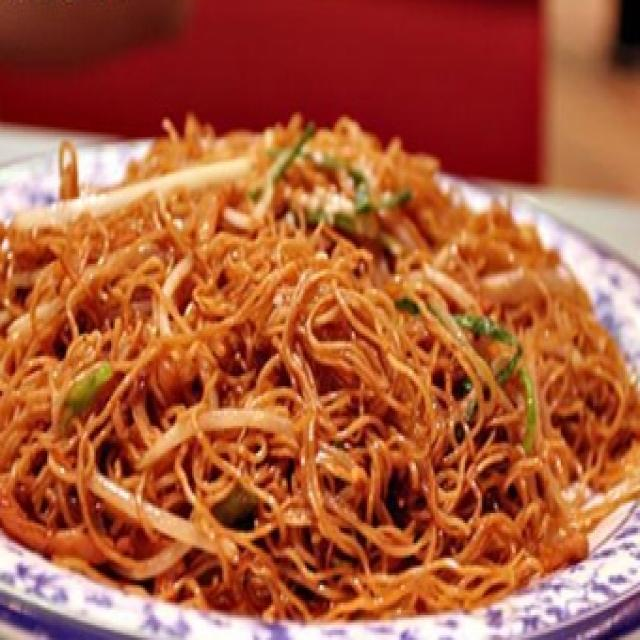面条主食: (6, 20, 634, 620)
